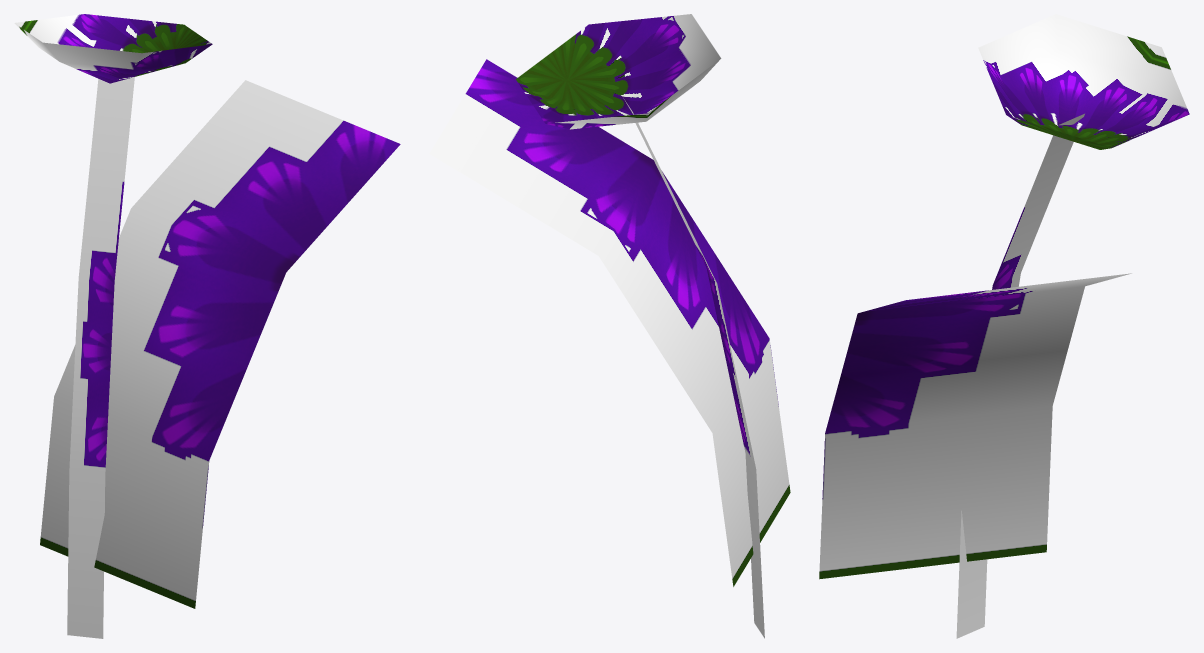
File: Flower_15a.FBX
The picture shows the model from 3 angles, left to right: view 1: azimuth 30°, elevation 25°; view 2: azimuth 150°, elevation 25°; view 3: azimuth 270°, elevation 25°; orthographic projection. The views are drawn at different scales.
Visible parts, largest first — view 1: Flower_15a; view 2: Flower_15a; view 3: Flower_15a.
Part boxes in pixels (left/top/right/bottom): Flower_15a: left=14, top=14, right=400, bottom=638; Flower_15a: left=429, top=14, right=790, bottom=638; Flower_15a: left=819, top=14, right=1189, bottom=638.
Bounding box in the file's own units: 11.35 × 20.66 × 11.25.
